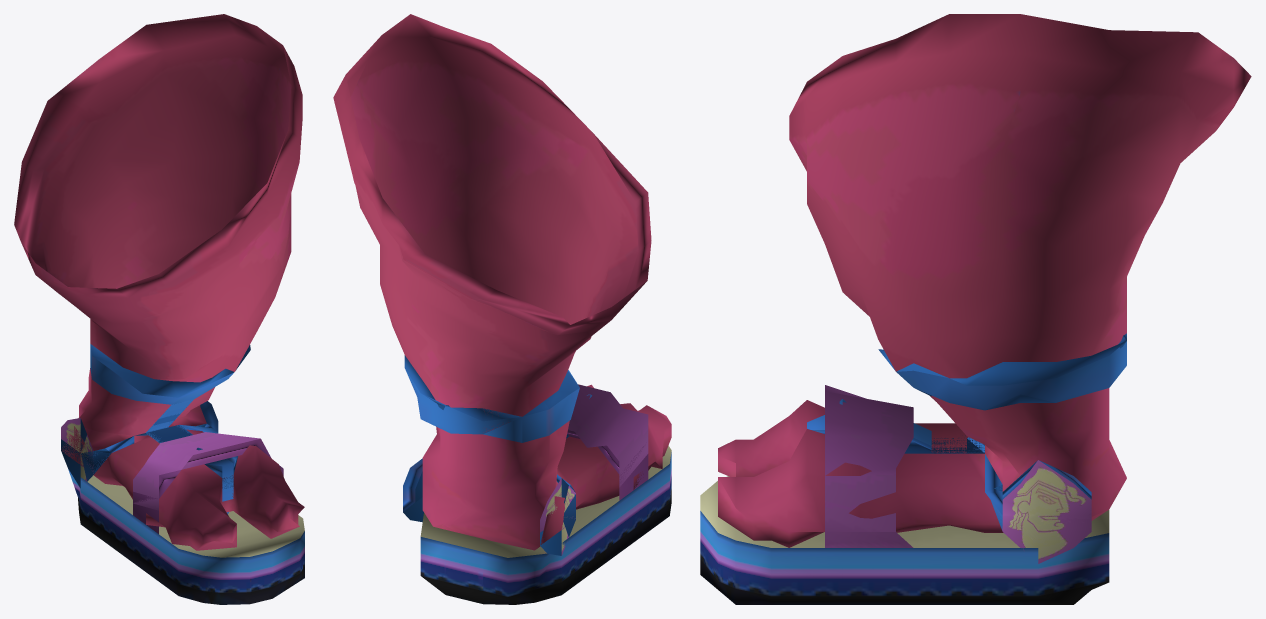
The model's file is PiernaIzq_Pena.obj.
3 views of the same model, side by side, from view 1: azimuth 30°, elevation 25°; view 2: azimuth 150°, elevation 25°; view 3: azimuth 270°, elevation 25° (orthographic). The views are drawn at different scales.
Parts seen in each view (by area): view 1: PiernaIzq_Pena; view 2: PiernaIzq_Pena; view 3: PiernaIzq_Pena.
Part boxes in pixels (<box>): PiernaIzq_Pena: <box>14,14,304,604</box>; PiernaIzq_Pena: <box>333,14,671,604</box>; PiernaIzq_Pena: <box>700,14,1251,604</box>.
Bounding box in the file's own units: 0.21 × 0.39 × 0.31.
